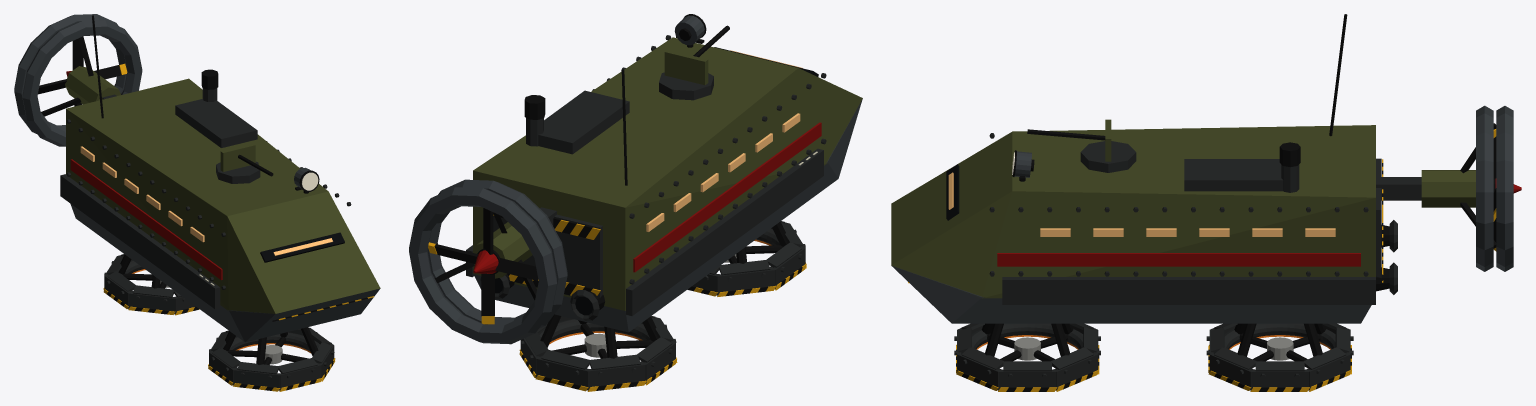
File: launch.obj
3 views of the same model, side by side, from view 1: azimuth 30°, elevation 25°; view 2: azimuth 150°, elevation 25°; view 3: azimuth 270°, elevation 25° (orthographic). The views are drawn at different scales.
Visible parts, largest first — view 1: launch; view 2: launch; view 3: launch.
Boxes of the visible parts, bbox=[...] form: launch: bbox=[14, 14, 380, 391]; launch: bbox=[409, 14, 862, 391]; launch: bbox=[891, 14, 1521, 391].
Size of the model in its own units: 26.68 by 50.32 by 90.
1 material, 1 textured.
